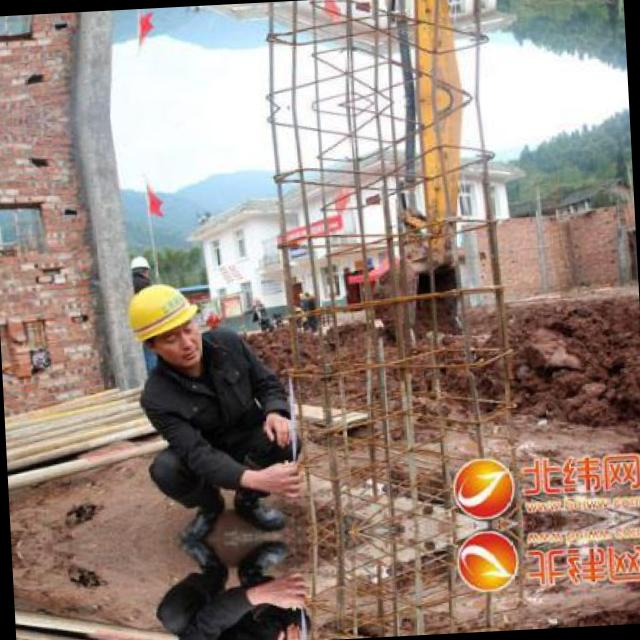helmet: (119, 275, 207, 372), (128, 252, 152, 284)
